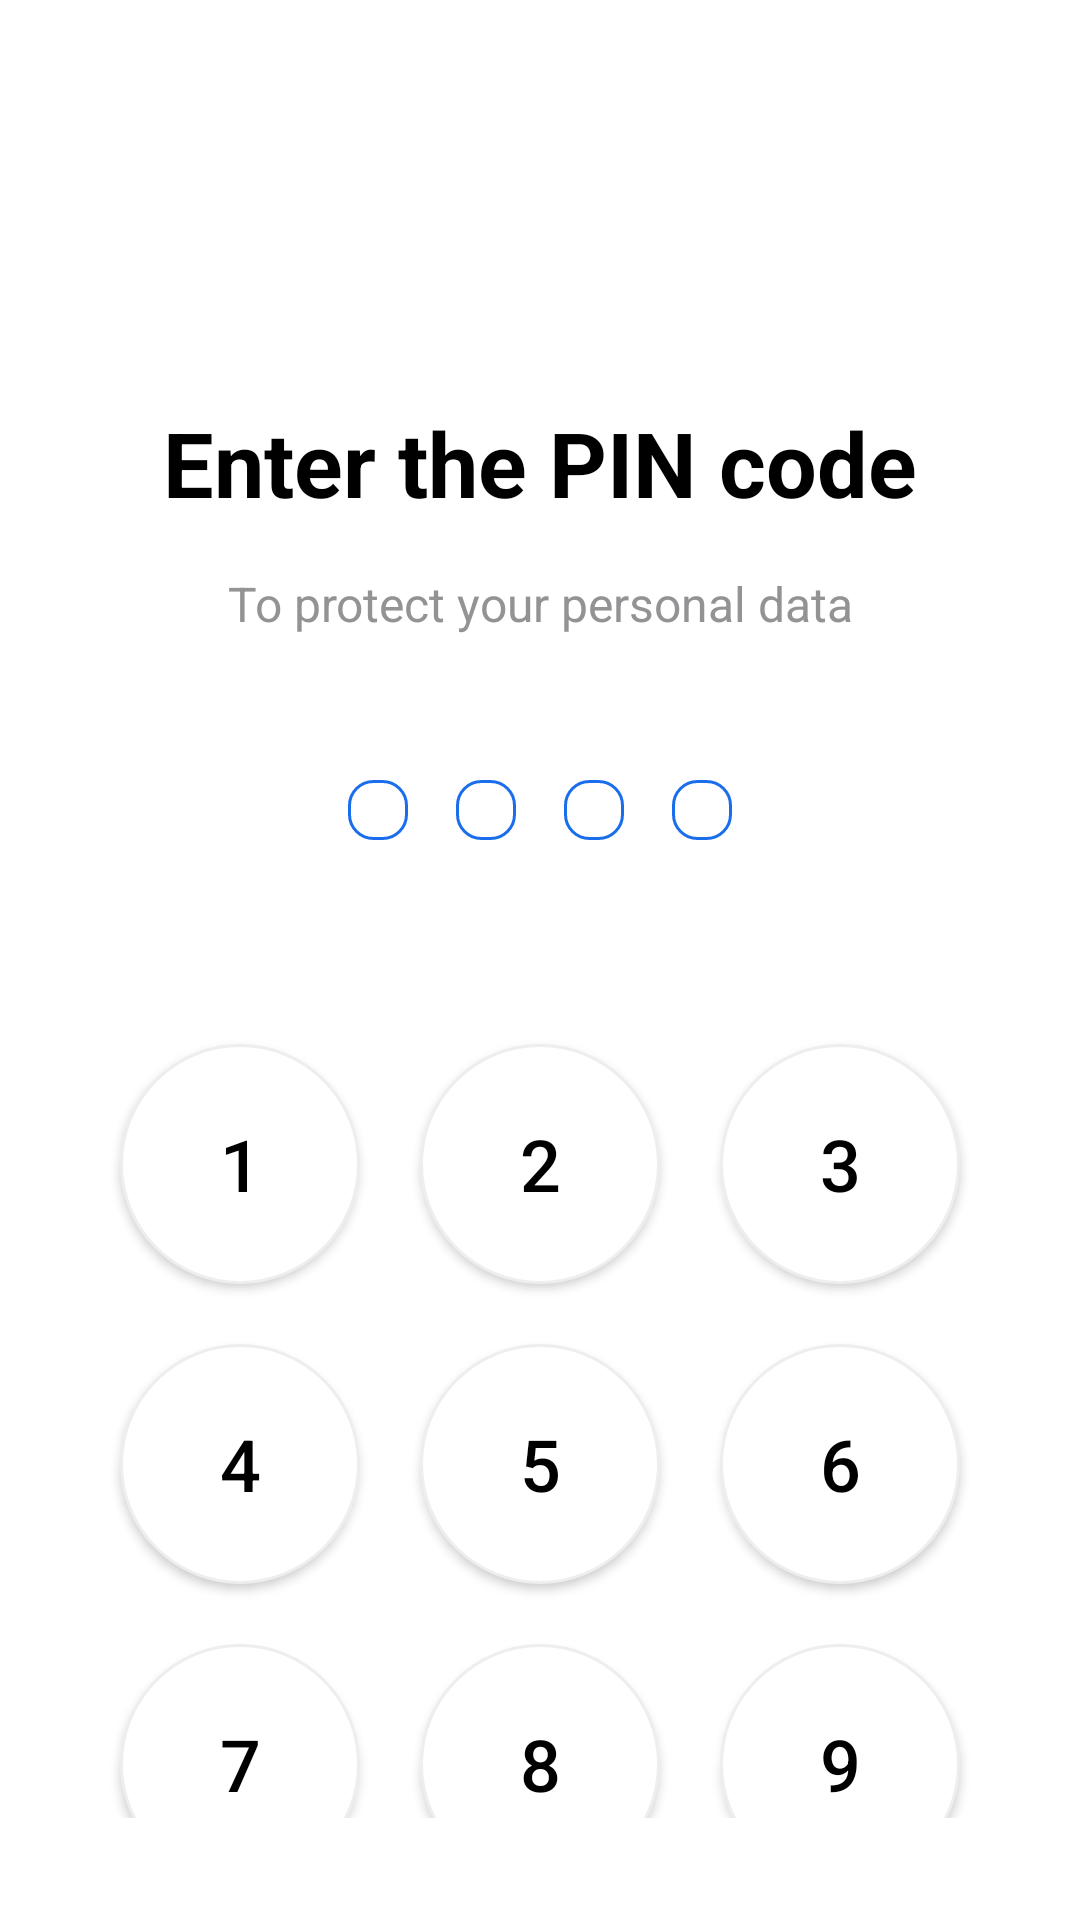

Where icons sit on this 1080x1920 app screen, as (x1, y1, x2, y2):
pin indicator empty: (348, 780, 408, 840), (456, 780, 516, 840), (564, 780, 624, 840), (672, 780, 732, 840)
